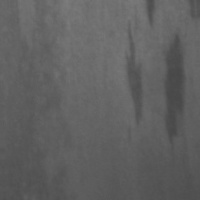inclusion: (158, 30, 192, 148), (117, 18, 146, 130), (142, 0, 161, 28)
